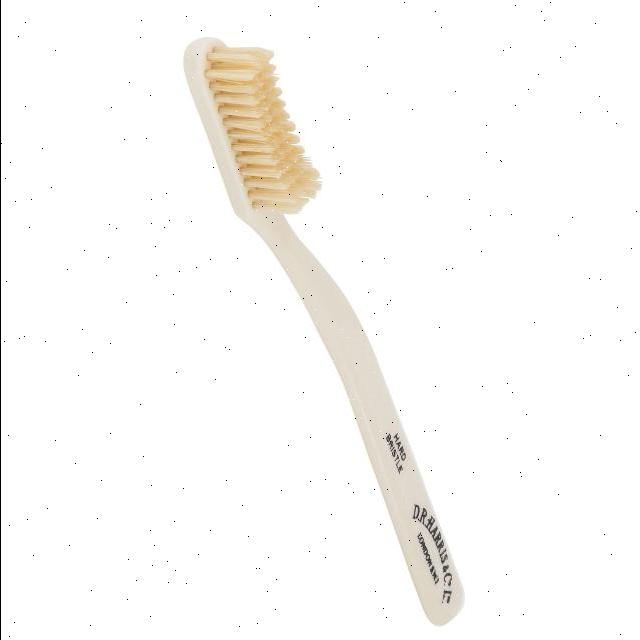toothbrush: (197, 0, 479, 640)
